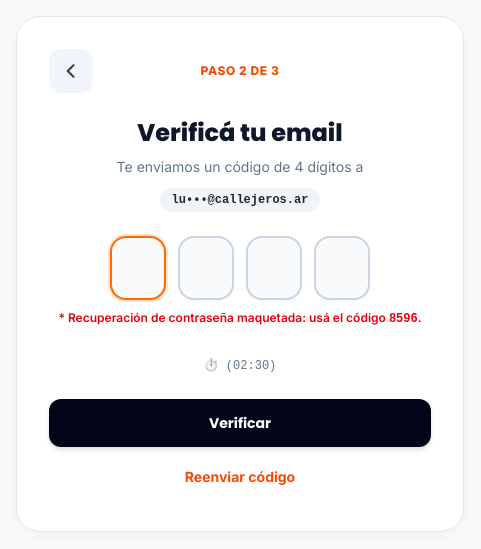
RecoverPasswordPage › en el Paso 3 valida con zod el mínimo de 6 caracteres, coincidencia de contraseñas y muestra la confirmación final
Earlier steps of the test are not shown.
Later steps or results of the test are not shown.
Check: the heading "Verificá tu email" is shown, box [137,116,343,149]
In the field named "Dígito 1": [138, 268] box [110,236,166,300], type "8"
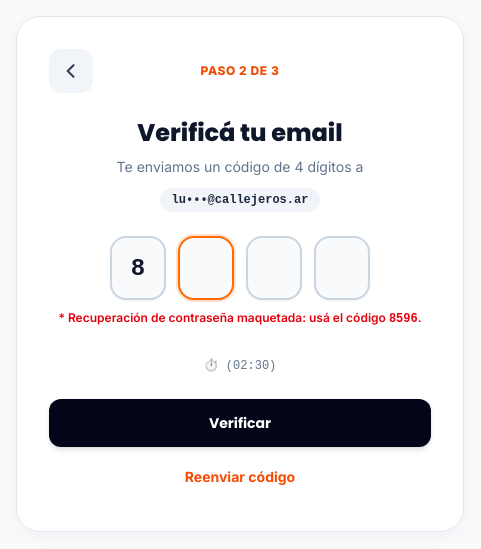
In the field named "Dígito 2": [206, 268] box [178,236,234,300], type "5"
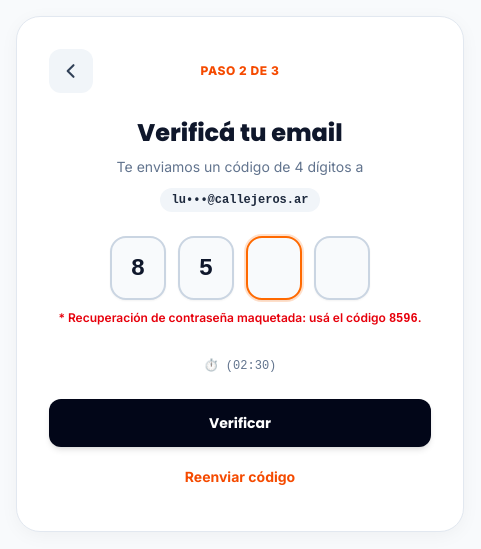
In the field named "Dígito 3": [274, 268] box [246,236,302,300], type "9"
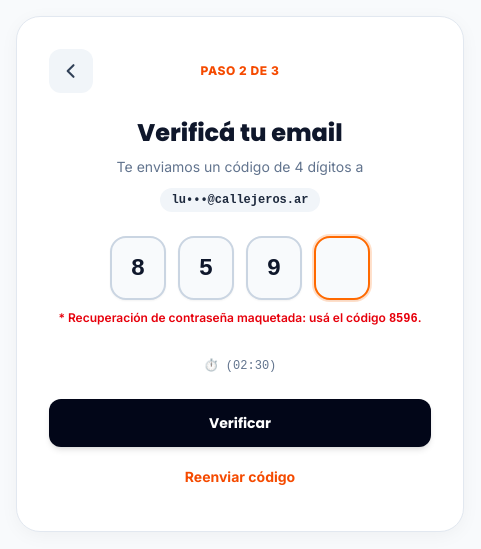
In the field named "Dígito 4": [342, 268] box [314,236,370,300], type "6"
Click the button "Verificar": [240, 423] box [49,399,431,447]
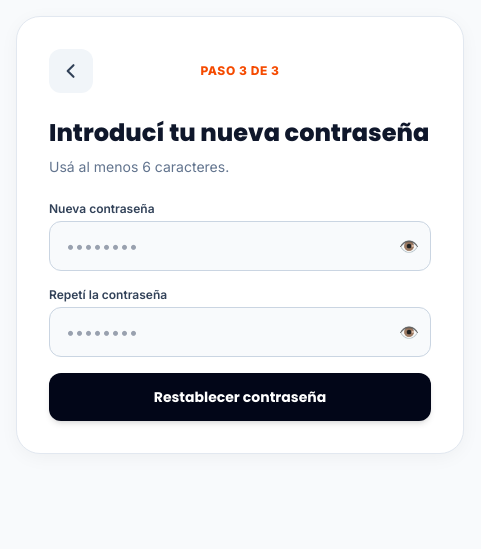
In the password field labelled "Nueva contraseña": [240, 246] box [49,221,431,271], type "12345"
In the password field labelled "Repetí la contraseña": [240, 332] box [49,307,431,357], type "12345"
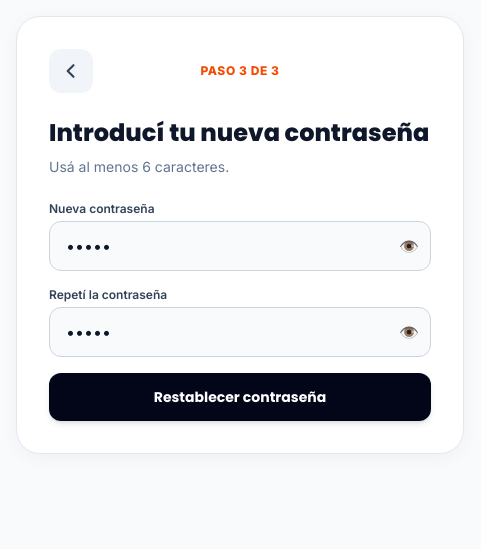
Click the button "Restablecer contraseña": [240, 397] box [49,373,431,421]
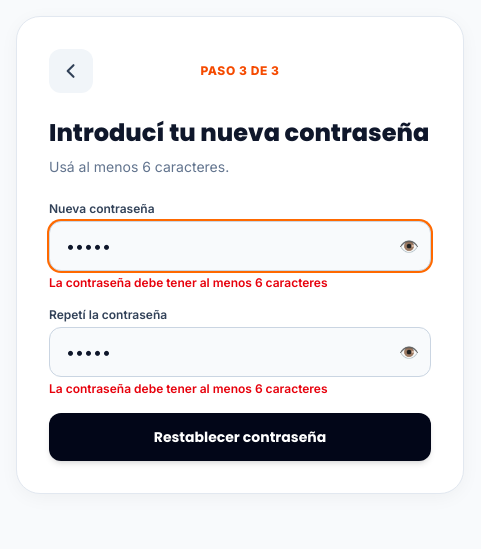
Check: the text "La contraseña debe tener al menos 6 caracteres" is shown 2 times, box [49,275,328,290]; [49,381,328,396]
